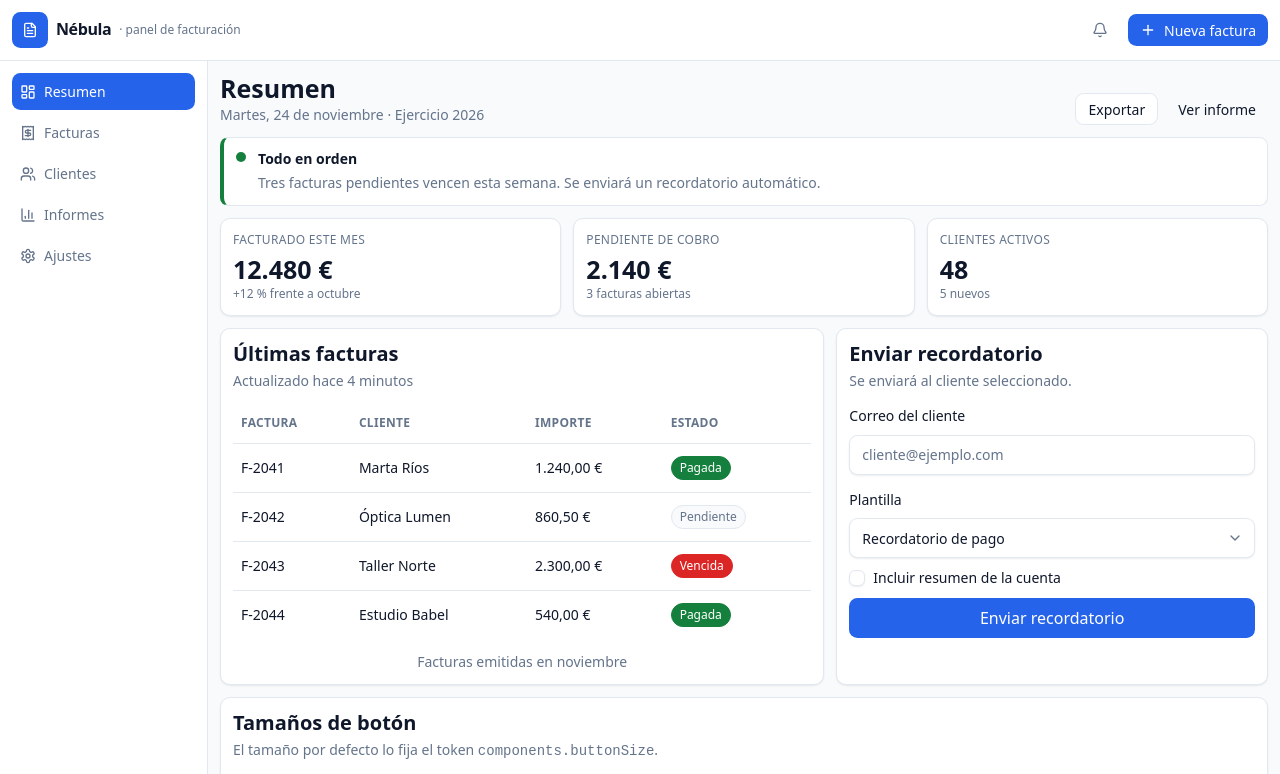
Test: GalleryApp › abre y cierra el modal de nueva factura
Click the button "Nueva factura" at x=1198, y=30, box [1128,14,1268,46]
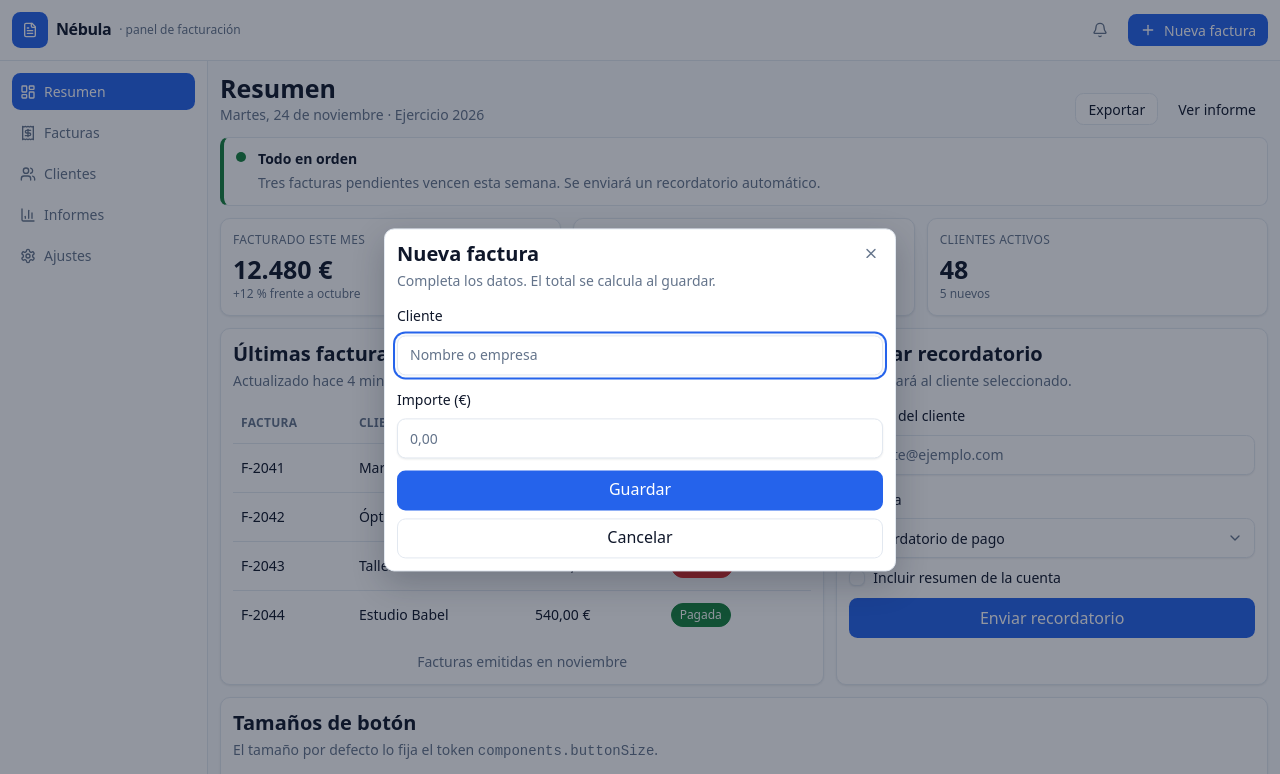
Expected: the field labelled "Cliente" is shown, [397,335,883,375]
Click the button "Cancelar" at x=640, y=539, box [397,519,883,559]
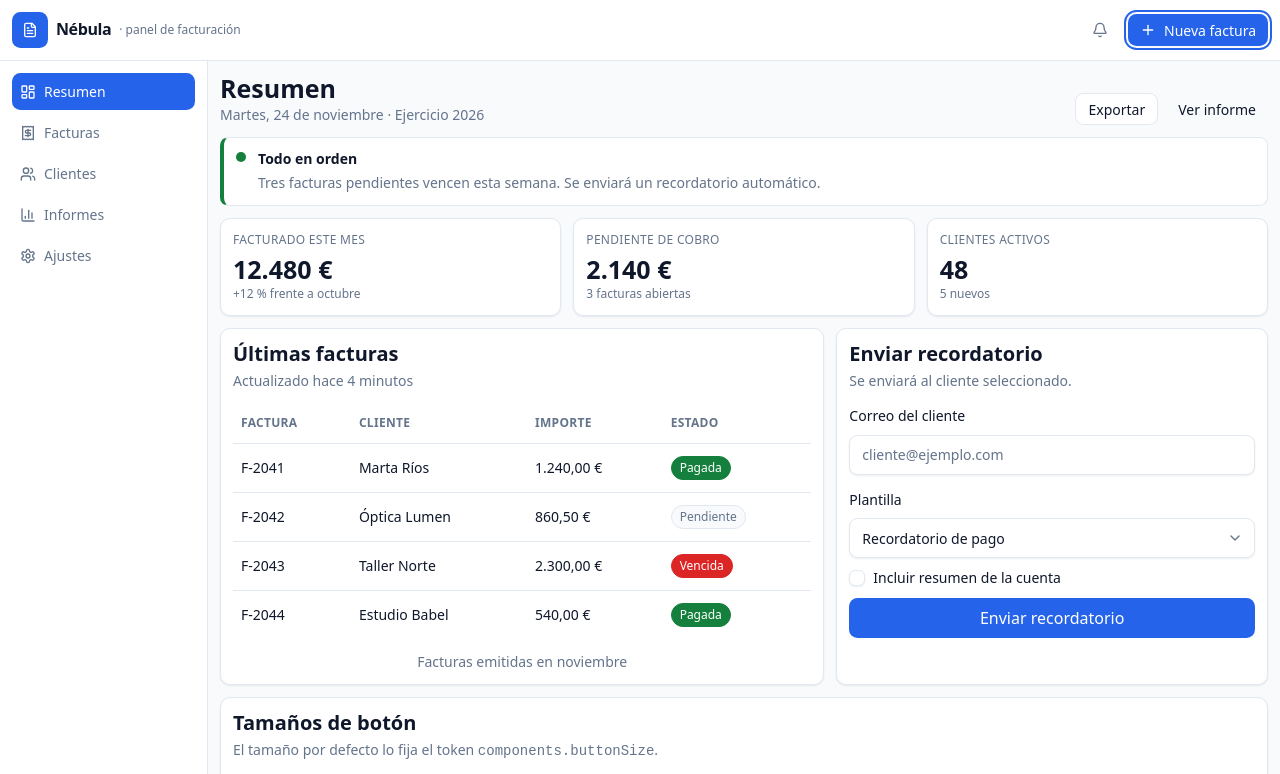
Expected: the dialog is gone
